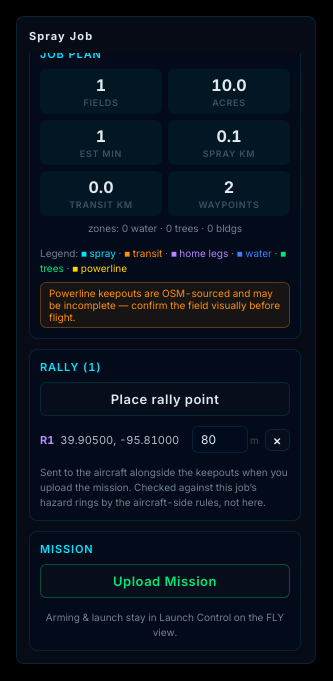
rendering what came back, without adding a verdict › RALLY_INCL_HOME=1 never reads as a working diversion
(page scrolled)
Click the button "Upload Mission": (165, 581) x1=40 y1=564 x2=290 y2=598
(page scrolled)
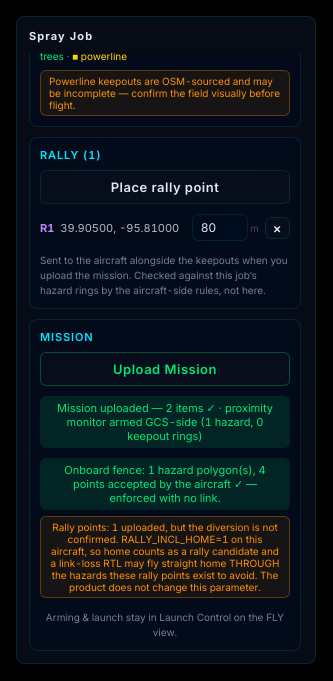
Expected: the text with class "rally-line" shows "not confirmed", x1=68 y1=521 x2=278 y2=545
